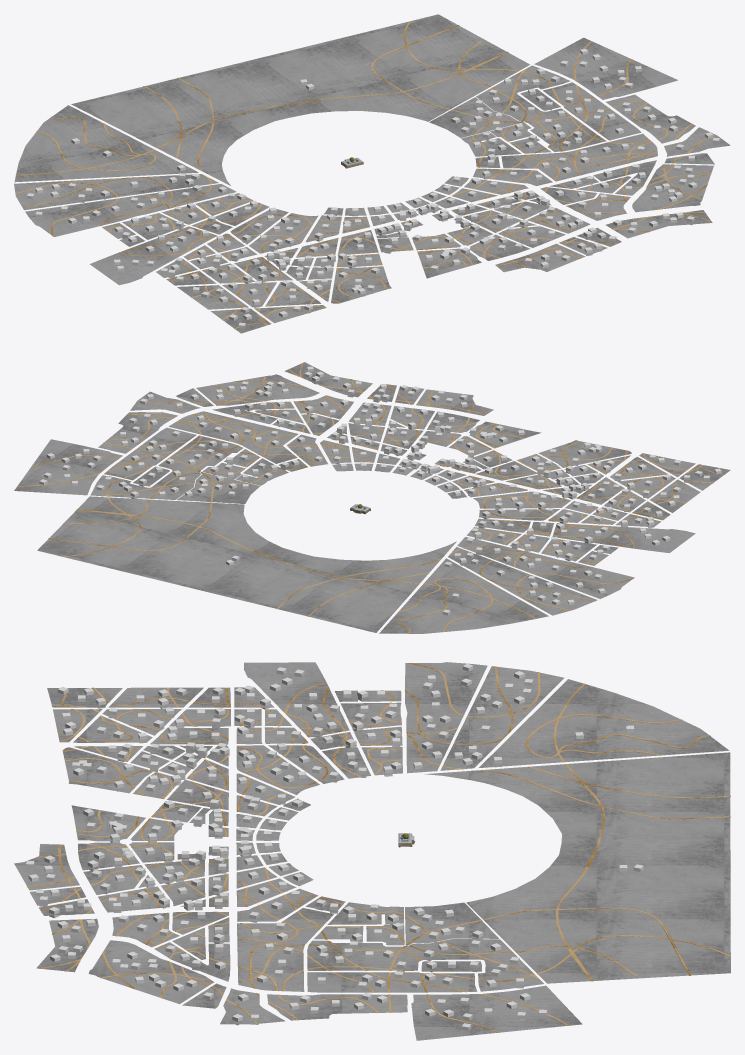
Rendered from publicSchools.glb.
3 views of the same model, one above another, from view 1: azimuth 30°, elevation 25°; view 2: azimuth 150°, elevation 25°; view 3: azimuth 270°, elevation 25° (orthographic). The views are drawn at different scales.
Parts seen in each view (by area): view 1: ground_publicSchools_81, ground_publicSchools_82, ground_publicSchools_93, ground_publicSchools_49, ground_publicSchools_76, ground_publicSchools_48, ground_publicSchools_68, ground_publicSchools_53, ground_publicSchools_83, ground_publicSchools_78, streets_publicSchools_81, ground_publicSchools_92 (+29 smaller); view 2: ground_publicSchools_81, ground_publicSchools_82, ground_publicSchools_93, ground_publicSchools_49, ground_publicSchools_76, ground_publicSchools_48, ground_publicSchools_68, ground_publicSchools_53, ground_publicSchools_83, ground_publicSchools_78, streets_publicSchools_81, ground_publicSchools_92 (+30 smaller); view 3: ground_publicSchools_81, ground_publicSchools_82, ground_publicSchools_93, ground_publicSchools_49, ground_publicSchools_76, ground_publicSchools_48, ground_publicSchools_68, ground_publicSchools_53, ground_publicSchools_83, ground_publicSchools_78, streets_publicSchools_81, ground_publicSchools_92 (+38 smaller).
Boxes of the visible parts, x1,y1,x2,y2 form: ground_publicSchools_81: (71, 14, 529, 185); ground_publicSchools_82: (14, 105, 198, 182); ground_publicSchools_93: (534, 37, 677, 99); ground_publicSchools_49: (25, 184, 236, 236); ground_publicSchools_76: (476, 65, 606, 151); ground_publicSchools_48: (14, 174, 218, 210); ground_publicSchools_68: (501, 133, 657, 181); ground_publicSchools_53: (90, 226, 216, 285); ground_publicSchools_83: (632, 164, 713, 212); ground_publicSchools_78: (543, 82, 641, 140); streets_publicSchools_81: (143, 21, 518, 170); ground_publicSchools_92: (606, 94, 695, 143); ground_publicSchools_81: (37, 496, 456, 632); ground_publicSchools_82: (379, 558, 548, 633); ground_publicSchools_93: (14, 439, 122, 495); ground_publicSchools_49: (457, 537, 634, 598); ground_publicSchools_76: (90, 435, 243, 499); ground_publicSchools_48: (448, 547, 597, 615); ground_publicSchools_68: (168, 411, 298, 463); ground_publicSchools_53: (552, 523, 695, 552); ground_publicSchools_83: (196, 374, 319, 405); ground_publicSchools_78: (104, 427, 196, 480); streets_publicSchools_81: (48, 497, 441, 616); ground_publicSchools_92: (98, 412, 177, 453); ground_publicSchools_81: (424, 752, 730, 983); ground_publicSchools_82: (479, 679, 728, 767); ground_publicSchools_93: (411, 985, 582, 1040); ground_publicSchools_49: (405, 662, 487, 773); ground_publicSchools_76: (307, 939, 543, 991); ground_publicSchools_48: (440, 666, 564, 770); ground_publicSchools_68: (237, 908, 333, 991); ground_publicSchools_53: (244, 662, 349, 737); ground_publicSchools_83: (88, 940, 213, 1004); ground_publicSchools_78: (307, 972, 477, 992); streets_publicSchools_81: (480, 764, 730, 981); ground_publicSchools_92: (267, 994, 407, 1020).
Bounding box in the file's own units: 11.64 × 0.1893 × 9.31.
Materials: 8 (8 with a texture image).
